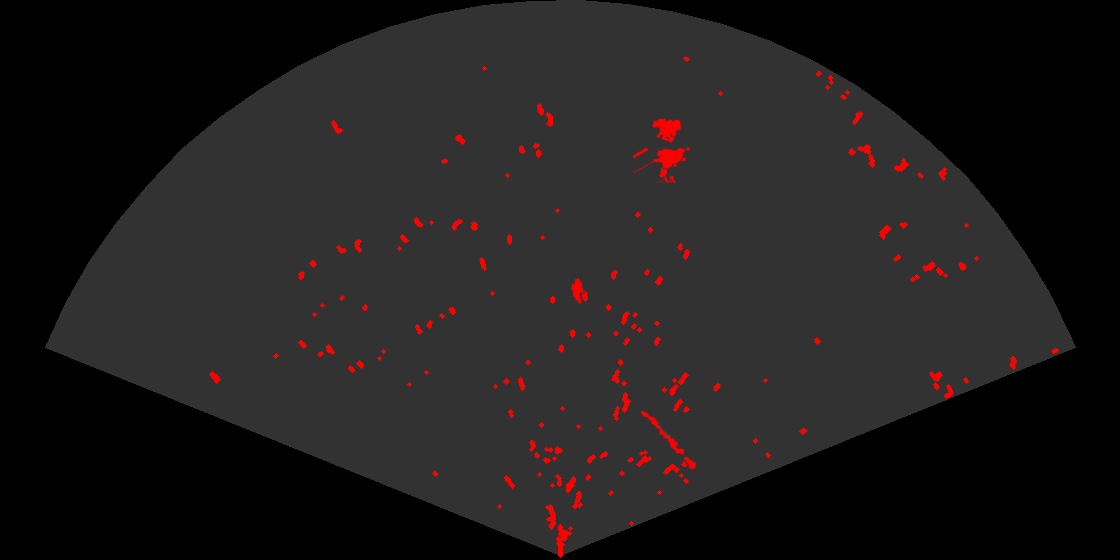AUV: (567, 276, 586, 306)
cage: (633, 117, 692, 183)
chain: (639, 409, 702, 474)
